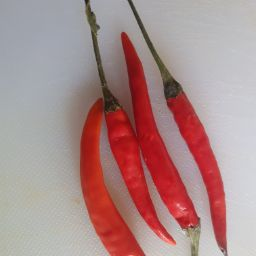Cayenne pepper: (49, 16, 242, 256)
